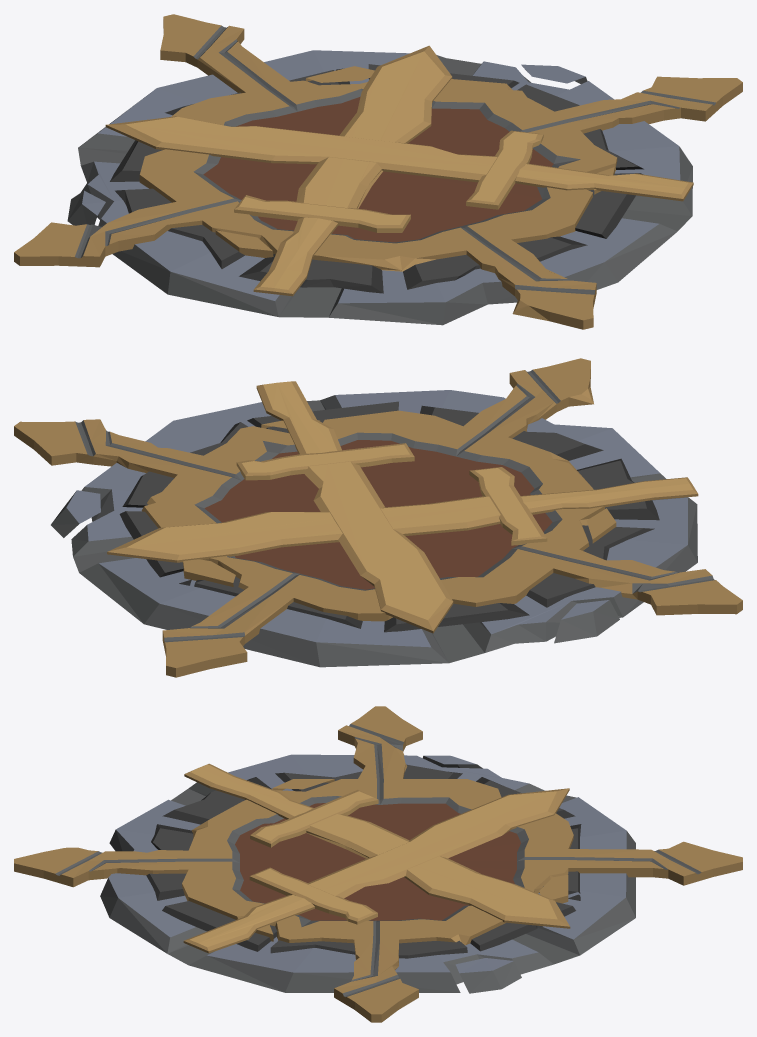
Rendered from floor_acc_01.FBX.
3 renders of one model, top to bottom at view 1: azimuth 30°, elevation 25°; view 2: azimuth 150°, elevation 25°; view 3: azimuth 270°, elevation 25°, orthographic. The views are drawn at different scales.
Parts seen in each view (by area): view 1: floor_acc_01; view 2: floor_acc_01; view 3: floor_acc_01.
Part boxes in pixels (left/top/right/bottom): floor_acc_01: left=14, top=14, right=742, bottom=329; floor_acc_01: left=14, top=358, right=742, bottom=677; floor_acc_01: left=14, top=706, right=742, bottom=1022.
Bounding box in the file's own units: 336 × 13.08 × 336.
